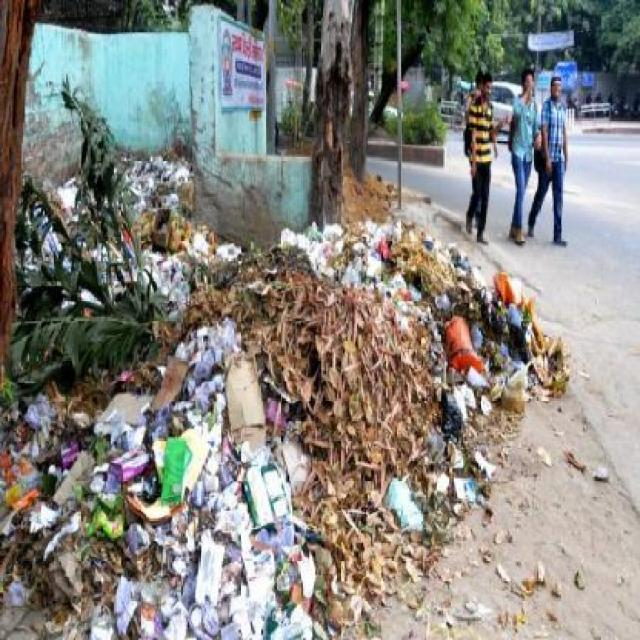garbage: (47, 355, 296, 638), (409, 228, 559, 442)
